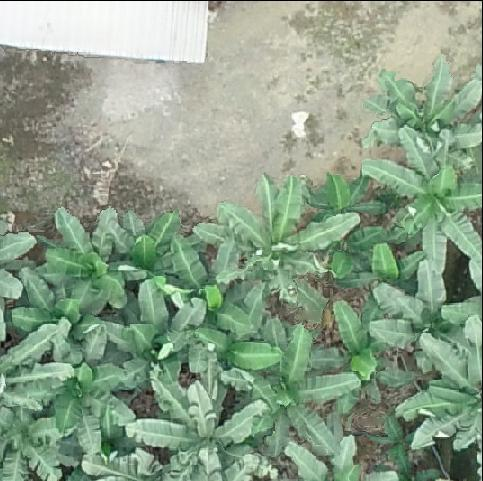Banana-plant: (193, 169, 361, 310), (358, 120, 483, 283), (220, 326, 359, 463), (125, 345, 263, 481), (23, 327, 147, 457), (367, 57, 483, 182), (367, 261, 483, 377), (397, 316, 483, 464), (100, 279, 212, 392), (35, 204, 132, 323), (97, 200, 209, 285), (0, 392, 76, 480), (302, 171, 386, 239), (200, 310, 283, 372), (371, 441, 442, 481), (369, 409, 431, 448)
